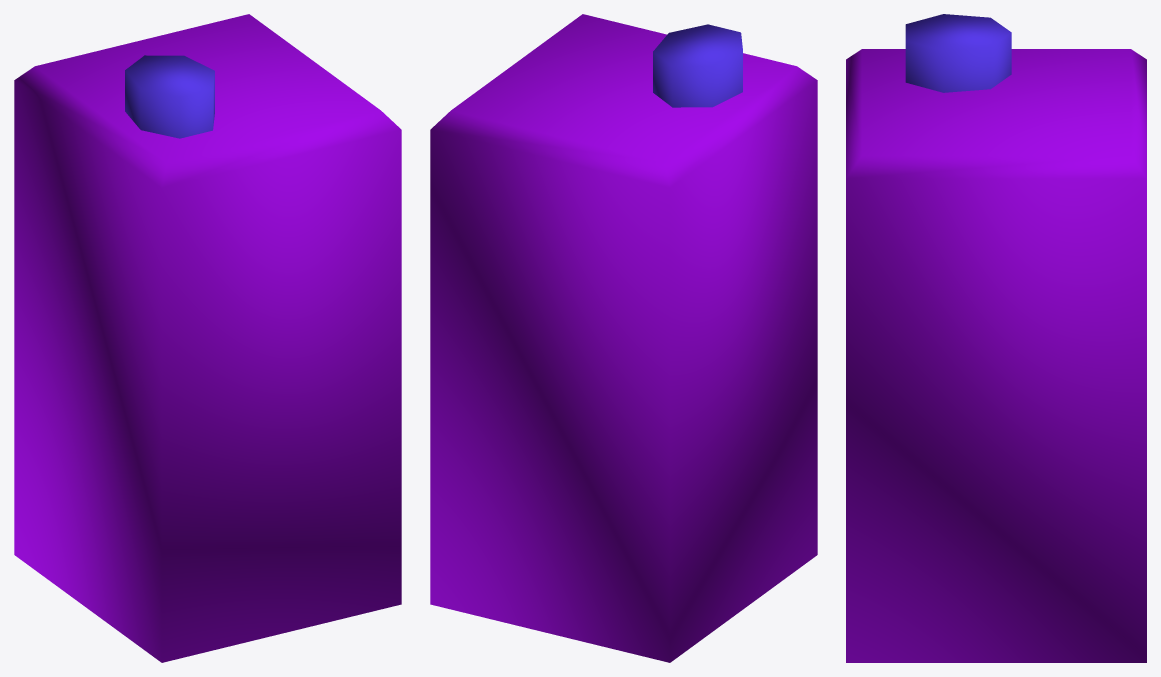
The model's file is succo_fruttirossi_mini.fbx.
The picture shows the model from 3 angles, left to right: view 1: azimuth 30°, elevation 25°; view 2: azimuth 150°, elevation 25°; view 3: azimuth 270°, elevation 25°; orthographic projection.
Visible parts, largest first — view 1: rossi_mini; view 2: rossi_mini; view 3: rossi_mini.
Part boxes in pixels (left/top/right/bottom): rossi_mini: left=14, top=14, right=401, bottom=662; rossi_mini: left=430, top=14, right=817, bottom=662; rossi_mini: left=846, top=14, right=1146, bottom=662.
Size of the model in its own units: 66.34 by 141 by 70.7.
